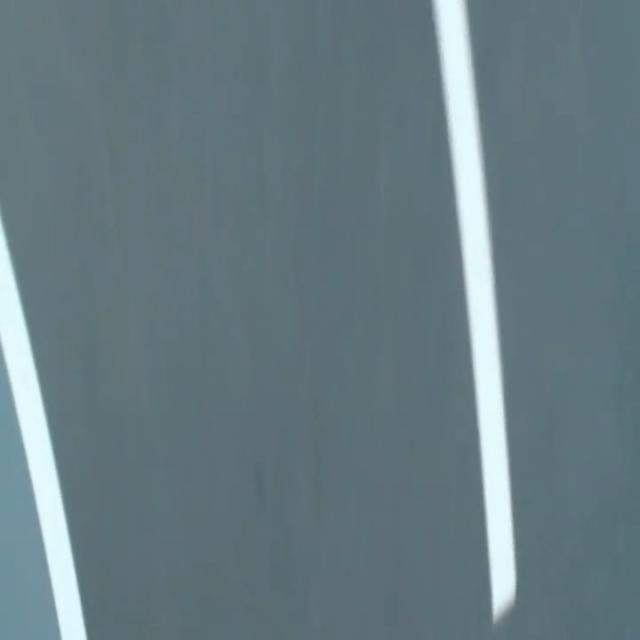center: (432, 0, 515, 623)
left: (0, 213, 86, 639)
